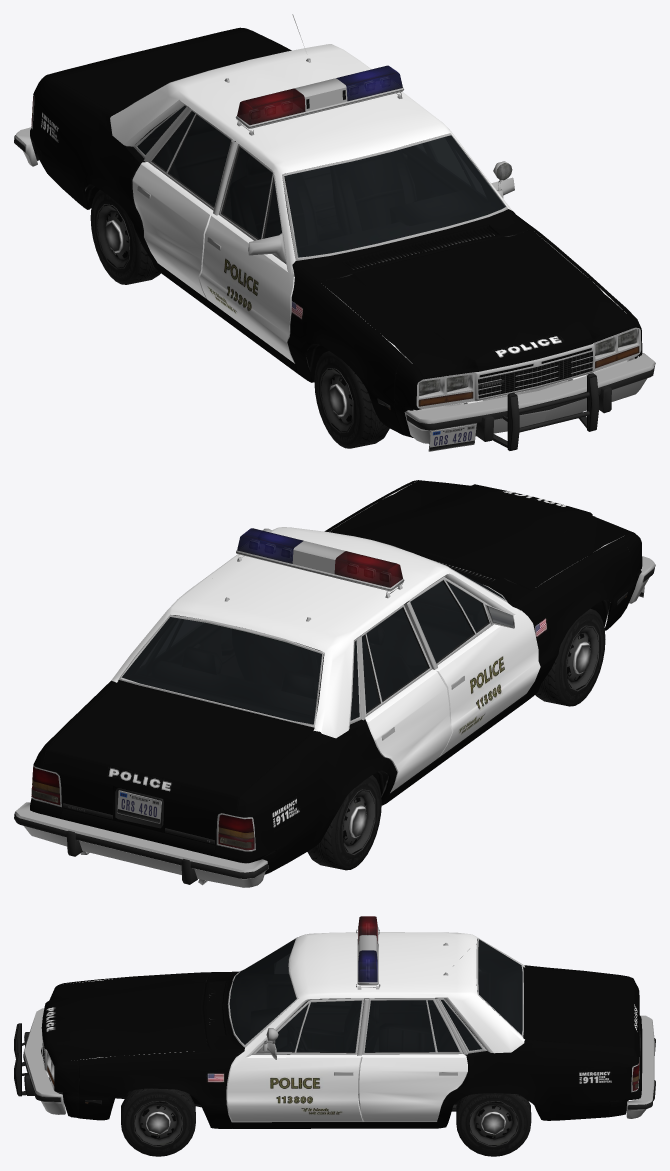
The model's file is realpolicecar.glb.
3 views of the same model, one above another, from view 1: azimuth 30°, elevation 25°; view 2: azimuth 150°, elevation 25°; view 3: azimuth 270°, elevation 25° (orthographic). The views are drawn at different scales.
Parts seen in each view (by area): view 1: Fairheaven_LT80_Front_Plate001_Fairheaven_LT80_Bodymat_0, Fairheaven_LT80_Lightbar_Glass_UCB_Lights_and_Glass_Transper, Fairheaven_LT80_Lightbar_UCB_BOTTOM_GT_0, Fairheaven_LT80_Interior001_UCB_Interior_Trim_0, Fairheaven_LT80_WheelStamp_FL_RB1c_Tire_1k_0, Fairheaven_LT80_Brakelights001_UCB_Lights_and_Glass_0, Fairheaven_LT80_Cop_Numberplate_Rear_Numberplates_Misk_U_0; view 2: Fairheaven_LT80_Front_Plate001_Fairheaven_LT80_Bodymat_0, Fairheaven_LT80_Lightbar_Glass_UCB_Lights_and_Glass_Transper, Fairheaven_LT80_Interior001_UCB_Interior_Trim_0, Fairheaven_LT80_Lightbar_UCB_BOTTOM_GT_0, Fairheaven_LT80_WheelStamp_FL_RB1c_Tire_1k_0, Fairheaven_LT80_Brakelights001_UCB_Lights_and_Glass_0, Fairheaven_LT80_Cop_Numberplate_Rear_Numberplates_Misk_U_0; view 3: Fairheaven_LT80_Front_Plate001_Fairheaven_LT80_Bodymat_0, Fairheaven_LT80_Lightbar_Glass_UCB_Lights_and_Glass_Transper, Fairheaven_LT80_Interior001_UCB_Interior_Trim_0, Fairheaven_LT80_Lightbar_UCB_BOTTOM_GT_0, Fairheaven_LT80_WheelStamp_FL_RB1c_Tire_1k_0.
Part boxes in pixels (x1,y1,x2,y2): Fairheaven_LT80_Front_Plate001_Fairheaven_LT80_Bodymat_0: [30, 27, 642, 437]; Fairheaven_LT80_Lightbar_Glass_UCB_Lights_and_Glass_Transper: [31, 65, 639, 406]; Fairheaven_LT80_Lightbar_UCB_BOTTOM_GT_0: [14, 14, 655, 450]; Fairheaven_LT80_Interior001_UCB_Interior_Trim_0: [135, 106, 504, 349]; Fairheaven_LT80_WheelStamp_FL_RB1c_Tire_1k_0: [90, 189, 389, 448]; Fairheaven_LT80_Brakelights001_UCB_Lights_and_Glass_0: [31, 115, 636, 395]; Fairheaven_LT80_Cop_Numberplate_Rear_Numberplates_Misk_U_0: [428, 424, 476, 451]; Fairheaven_LT80_Front_Plate001_Fairheaven_LT80_Bodymat_0: [30, 480, 642, 874]; Fairheaven_LT80_Lightbar_Glass_UCB_Lights_and_Glass_Transper: [31, 528, 505, 848]; Fairheaven_LT80_Interior001_UCB_Interior_Trim_0: [57, 577, 504, 828]; Fairheaven_LT80_Lightbar_UCB_BOTTOM_GT_0: [14, 483, 655, 887]; Fairheaven_LT80_WheelStamp_FL_RB1c_Tire_1k_0: [307, 608, 605, 870]; Fairheaven_LT80_Brakelights001_UCB_Lights_and_Glass_0: [31, 766, 254, 850]; Fairheaven_LT80_Cop_Numberplate_Rear_Numberplates_Misk_U_0: [117, 587, 644, 823]; Fairheaven_LT80_Front_Plate001_Fairheaven_LT80_Bodymat_0: [41, 932, 642, 1128]; Fairheaven_LT80_Lightbar_Glass_UCB_Lights_and_Glass_Transper: [47, 916, 639, 1088]; Fairheaven_LT80_Interior001_UCB_Interior_Trim_0: [229, 939, 631, 1081]; Fairheaven_LT80_Lightbar_UCB_BOTTOM_GT_0: [14, 924, 655, 1128]; Fairheaven_LT80_WheelStamp_FL_RB1c_Tire_1k_0: [121, 1088, 531, 1156].
Bounding box in the file's own units: 1.72 × 1.49 × 4.8.
Materials: 8 (8 with a texture image).
